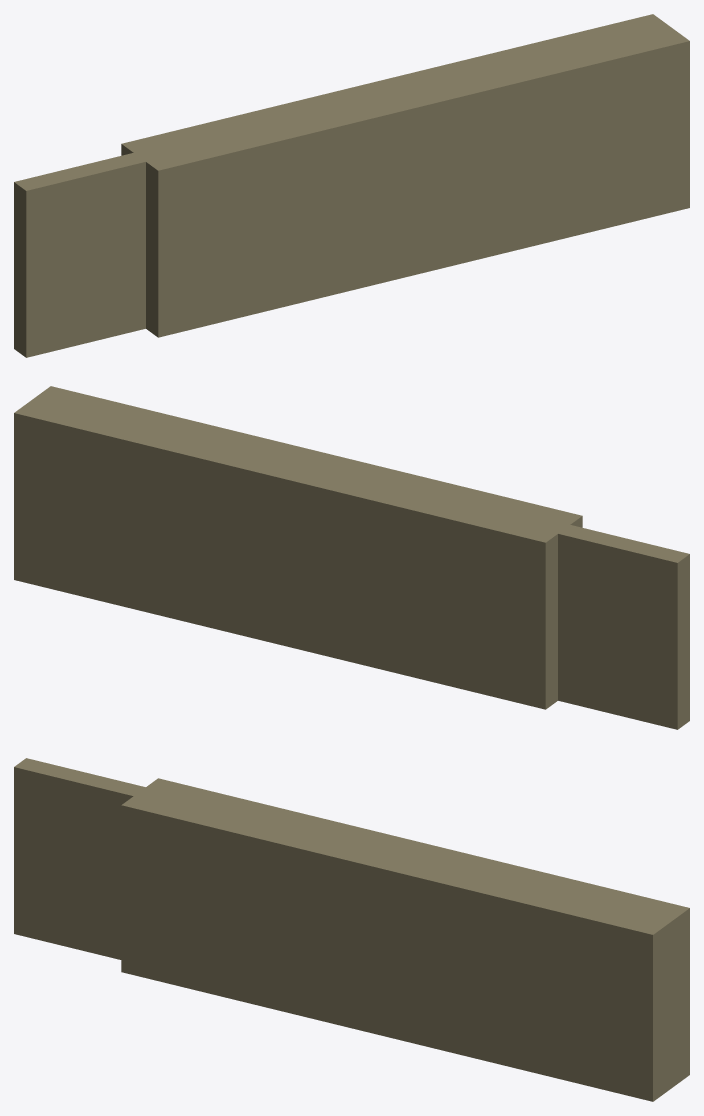
The model's file is lake-loach-tibet-shallows-0.glb.
3 views of the same model, one above another, from view 1: azimuth 30°, elevation 25°; view 2: azimuth 150°, elevation 25°; view 3: azimuth 330°, elevation 25° (orthographic).
Visible parts, largest first — view 1: body, tail; view 2: body, tail; view 3: body, tail.
Part boxes in pixels (x1,y1,x2,y2): body: [121, 14, 689, 337]; tail: [14, 149, 158, 357]; body: [14, 386, 582, 709]; tail: [545, 521, 689, 729]; body: [121, 778, 689, 1101]; tail: [14, 758, 149, 959].
Size of the model in its own units: 0.1347 by 0.033 by 0.0132.
